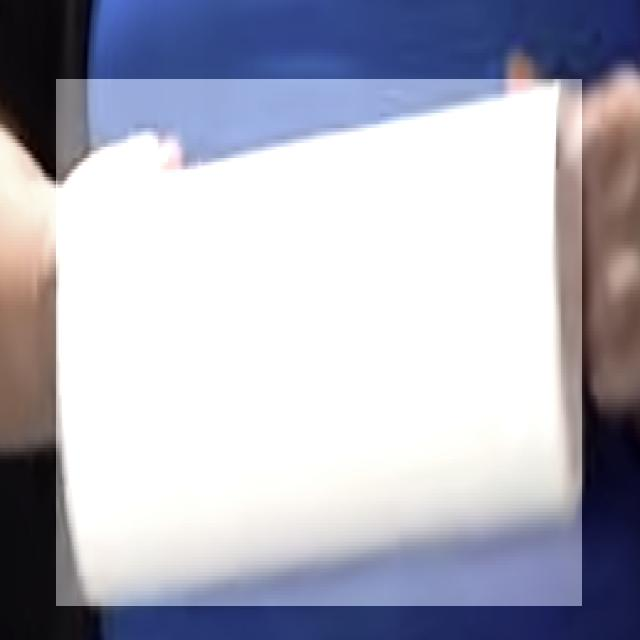Coral: (56, 79, 582, 606)
